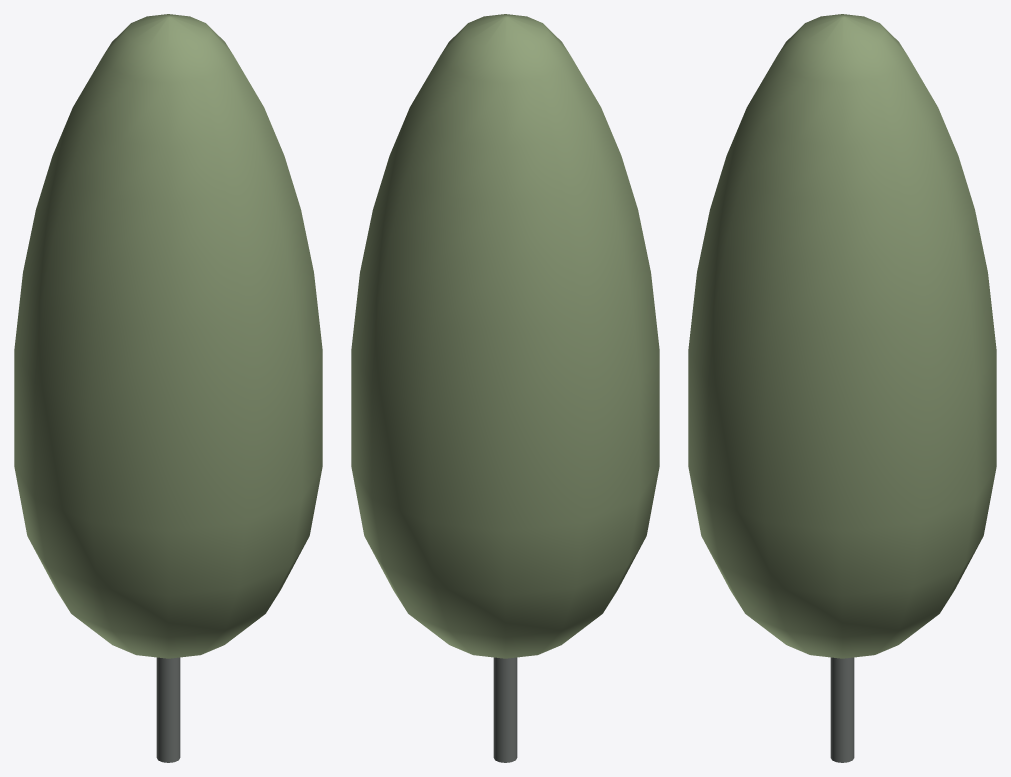
File: Norway_Spruce_Analytical_0.obj
3 views of the same model, side by side, from view 1: azimuth 30°, elevation 25°; view 2: azimuth 150°, elevation 25°; view 3: azimuth 270°, elevation 25° (orthographic).
Visible parts, largest first — view 1: AnalyticalCrown, AnalyticalTrunk; view 2: AnalyticalCrown, AnalyticalTrunk; view 3: AnalyticalCrown, AnalyticalTrunk.
Boxes of the visible parts, x1,y1,x2,y2 form: AnalyticalCrown: (14,14,322,658); AnalyticalTrunk: (156,657,180,762); AnalyticalCrown: (351,14,659,658); AnalyticalTrunk: (493,657,517,762); AnalyticalCrown: (688,14,996,658); AnalyticalTrunk: (830,657,854,762).
Bounding box in the file's own units: 6.04 × 16 × 6.04.
